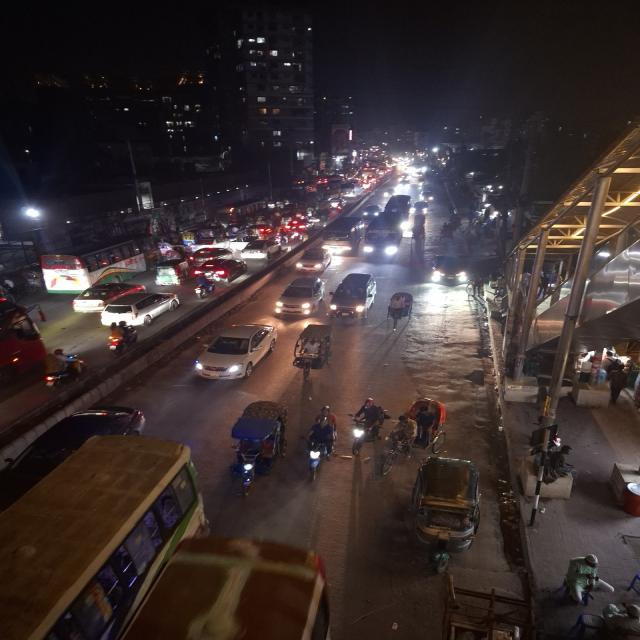bus: (2, 440, 210, 640), (38, 233, 157, 293), (361, 210, 405, 264), (320, 215, 362, 254), (182, 225, 226, 248), (384, 192, 414, 220)
car: (189, 320, 282, 384), (100, 288, 182, 328), (328, 270, 380, 324), (71, 280, 146, 313), (271, 274, 326, 318), (426, 252, 469, 290), (194, 258, 249, 284), (293, 248, 333, 274), (240, 239, 282, 261), (189, 246, 237, 263), (361, 203, 382, 217)
cng: (408, 455, 488, 577), (153, 257, 192, 285)
motorcycle: (304, 402, 338, 476), (348, 395, 386, 457), (39, 348, 87, 391), (103, 320, 140, 358), (192, 276, 218, 300)
rickshaw: (224, 400, 288, 498), (376, 394, 449, 478), (290, 322, 336, 380), (383, 290, 418, 326), (436, 223, 458, 247)
